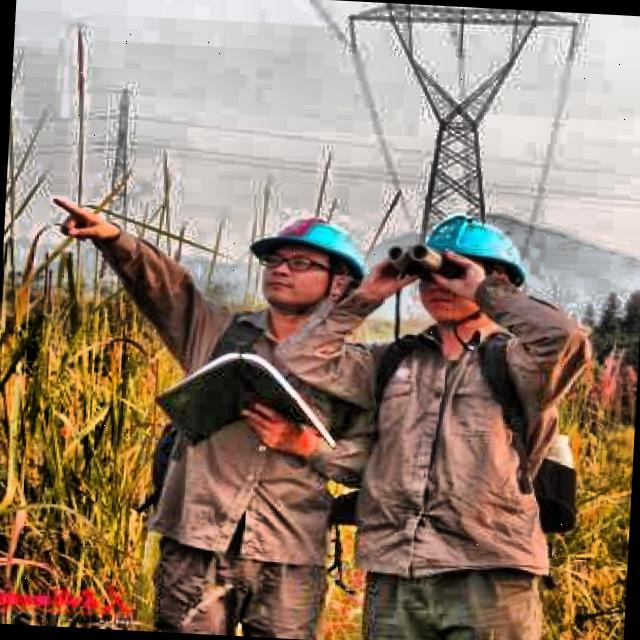helmet: (236, 198, 376, 324), (410, 212, 534, 310)
